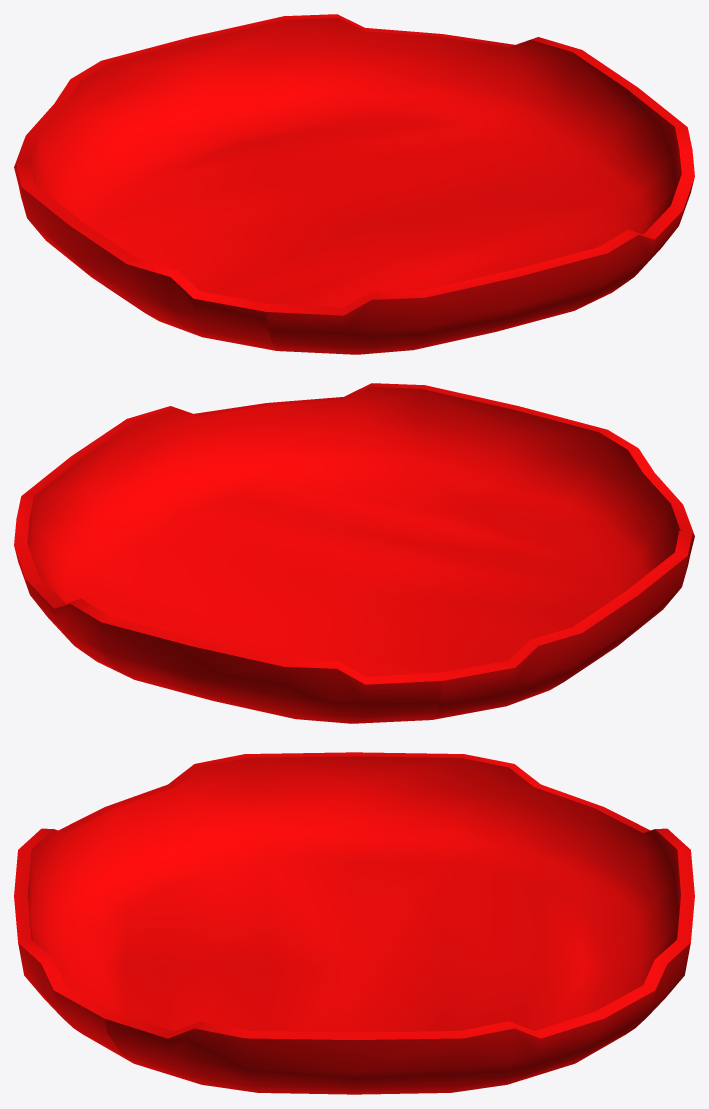
File: obj_characterobject_farmbotpackage_bot.fbx
3 views of the same model, one above another, from view 1: azimuth 30°, elevation 25°; view 2: azimuth 150°, elevation 25°; view 3: azimuth 270°, elevation 25° (orthographic). The views are drawn at different scales.
Parts seen in each view (by area): view 1: obj_characterobject_farmbot_bot1; view 2: obj_characterobject_farmbot_bot1; view 3: obj_characterobject_farmbot_bot1.
Part boxes in pixels (x1,y1,x2,y2): obj_characterobject_farmbot_bot1: (14, 14, 694, 354); obj_characterobject_farmbot_bot1: (14, 383, 694, 723); obj_characterobject_farmbot_bot1: (14, 752, 694, 1094).
Bounding box in the file's own units: 19.39 × 2.69 × 19.39.
